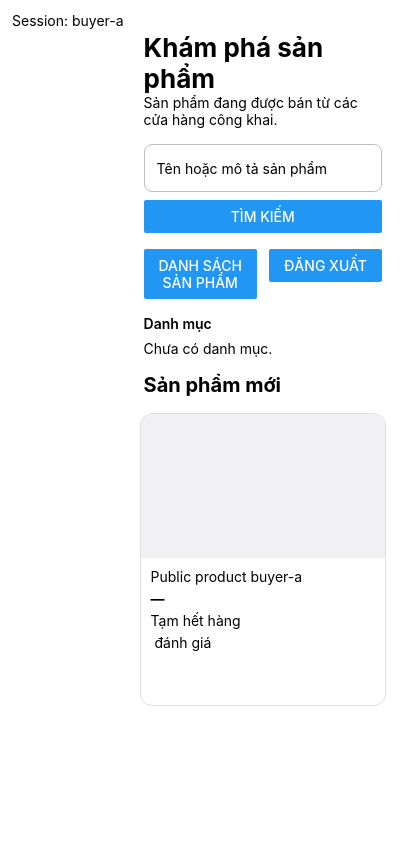
Test case: B01/B02: account change does not retain previous user or product component state
This screenshot has width=402, height=856.
Expected: the text "Public product buyer-a" is shown, [151,568,302,585]
Click the button "Đăng xuất". click: (325, 266)
box: [269,249,382,282]
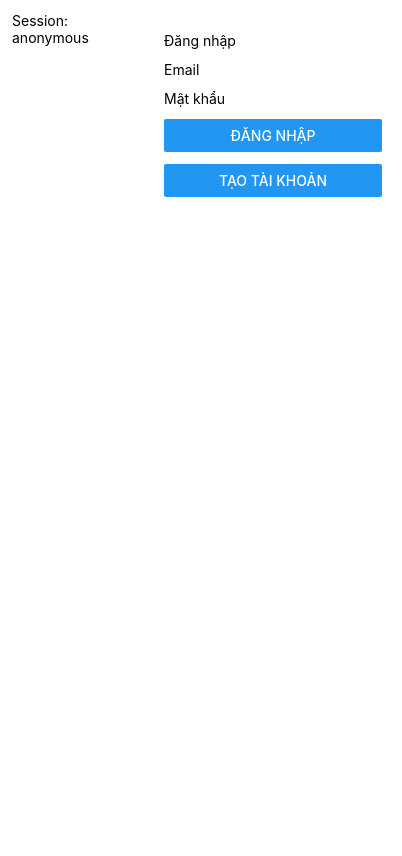
Now the field with placeholder "Email" is shown
Now the button "Public product buyer-a" is gone
Type "second@example.test" into the field with placeholder "Email". click: (273, 70)
box: [164,61,382,78]
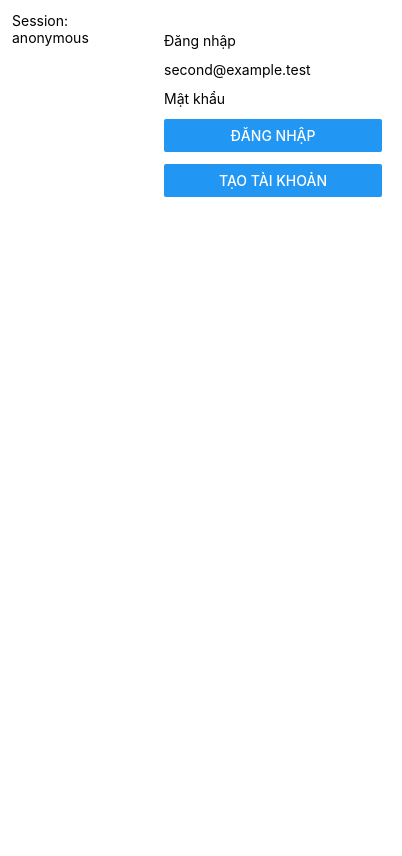
Type "fixture-password" into the password field with placeholder "Mật khẩu". click: (273, 98)
box: [164,90,382,107]
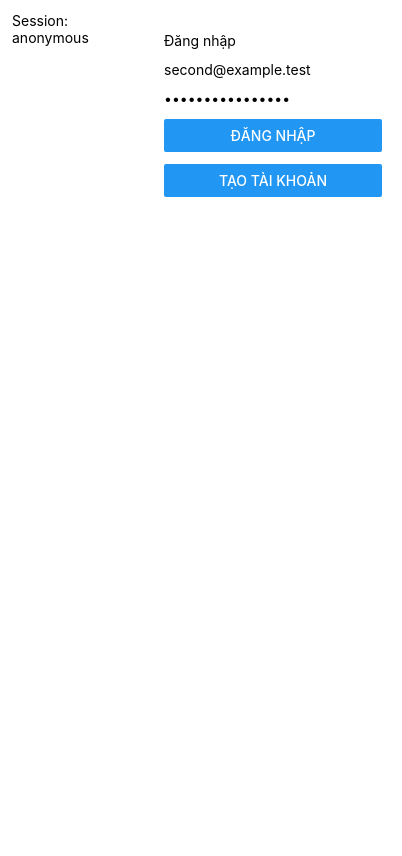
Click the button "Đăng nhập". click: (273, 136)
box: [164,119,382,152]
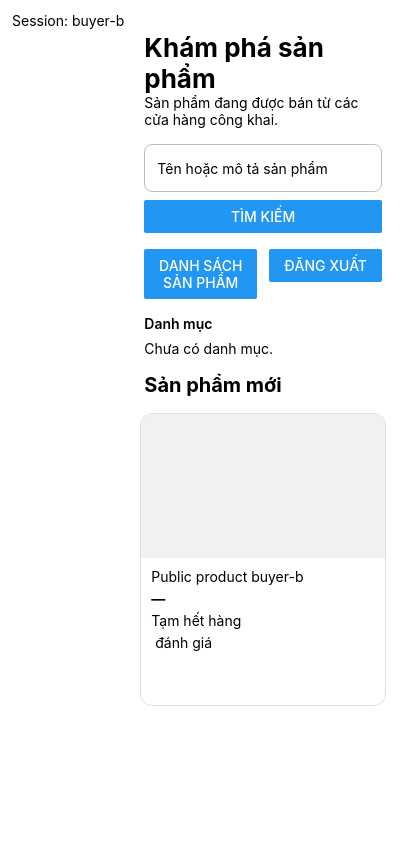
Now the button "Đăng xuất" is shown, box [269,249,382,282]
Now the text "Public product buyer-b" is shown, box [151,568,304,585]
Now the text "Session: buyer-b" is shown, box [12,12,124,29]
